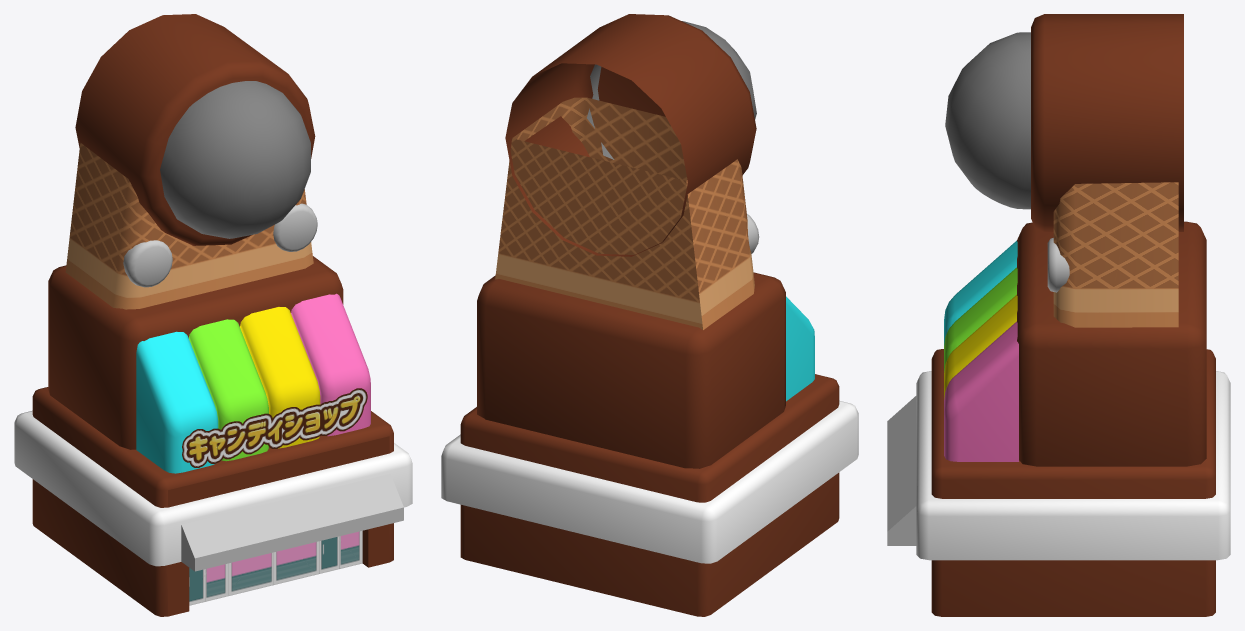
File: Town_Bld_CandyShop_B.FBX
3 renders of one model, left to right at view 1: azimuth 30°, elevation 25°; view 2: azimuth 150°, elevation 25°; view 3: azimuth 270°, elevation 25°, orthographic. The views are drawn at different scales.
Parts seen in each view (by area): view 1: Town_Bld_CandyShop_B; view 2: Town_Bld_CandyShop_B; view 3: Town_Bld_CandyShop_B.
Boxes of the visible parts, x1,y1,x2,y2 form: Town_Bld_CandyShop_B: (14,14,412,616); Town_Bld_CandyShop_B: (441,14,858,616); Town_Bld_CandyShop_B: (887,14,1230,616).
Size of the model in its own units: 755 by 1345 by 789.
